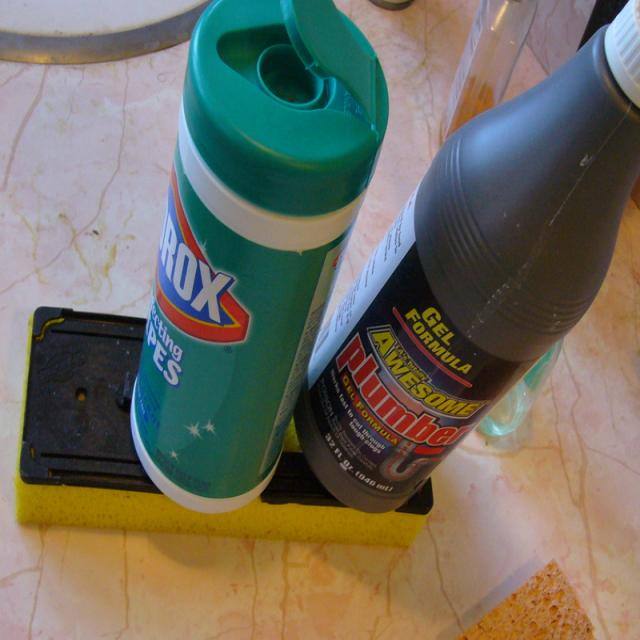container -bottle: (296, 0, 639, 511), (132, 0, 387, 511), (441, 0, 538, 140)
